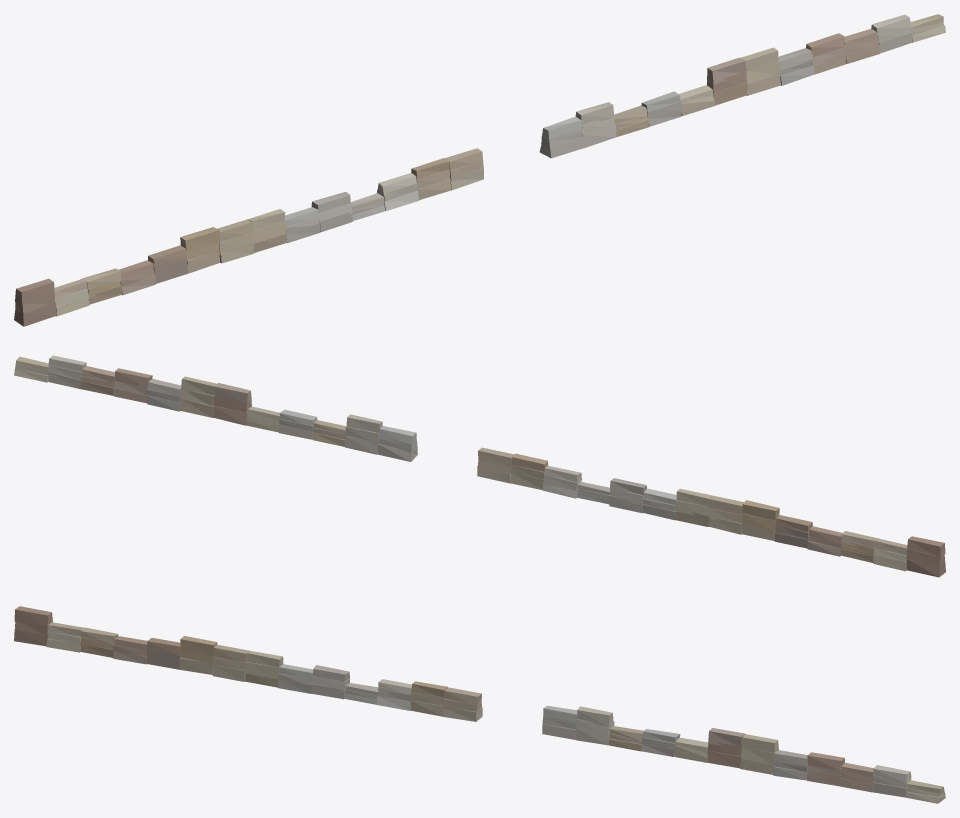
The model's file is farm_6_-5_mid.glb.
3 renders of one model, top to bottom at view 1: azimuth 30°, elevation 25°; view 2: azimuth 150°, elevation 25°; view 3: azimuth 330°, elevation 25°, orthographic. The views are drawn at different scales.
Visible parts, largest first — view 1: geometry_0; view 2: geometry_0; view 3: geometry_0.
Boxes of the visible parts, left/top/right/bottom form: geometry_0: left=14, top=14, right=945, bottom=326; geometry_0: left=14, top=355, right=945, bottom=577; geometry_0: left=14, top=606, right=945, bottom=803.
Bounding box in the file's own units: 43.87 × 2.24 × 4.47.
